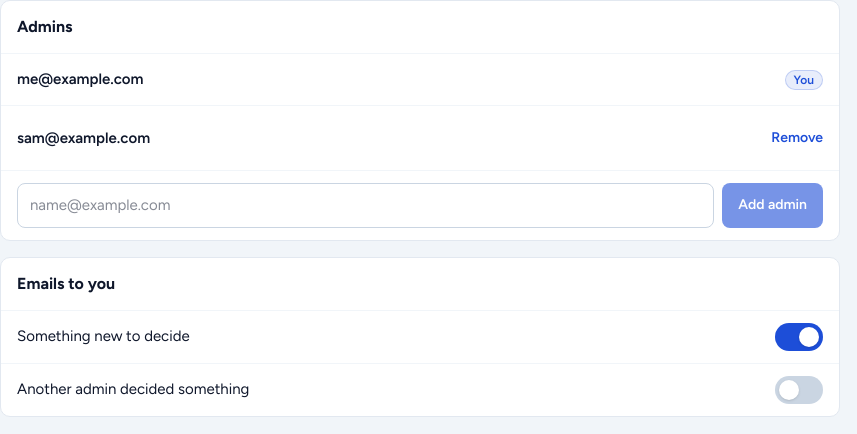
TeamManager › removes someone after asking, with DELETE, and Leave it keeps them
Click the button with aria-label "Remove sam@example.com" at (797, 138), box [771,118,823,158]
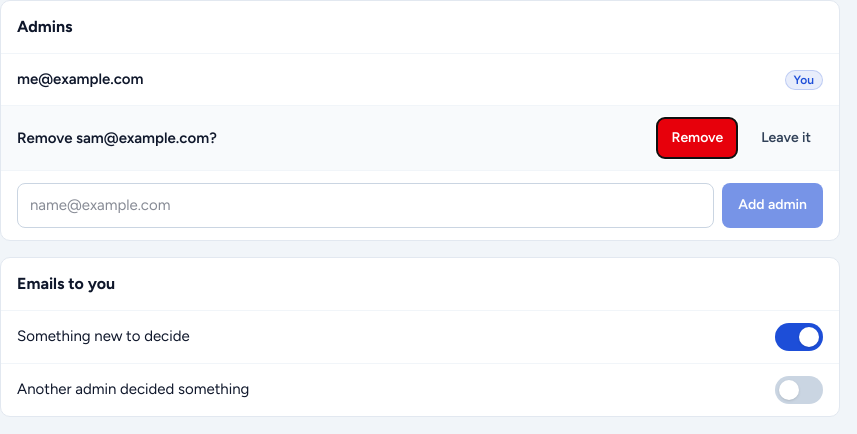
Expected: the text "Remove sam@example.com?" is shown, [17,129,217,147]
Click the button "Leave it" at (786, 138), box [749,118,823,158]
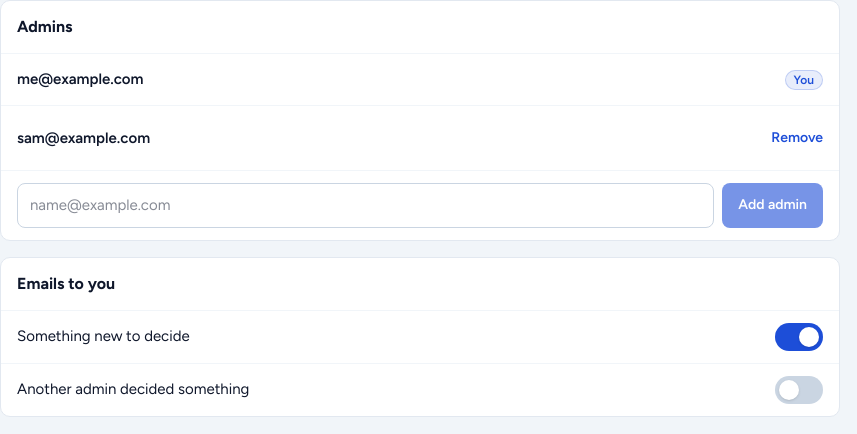
Expected: the text "sam@example.com" is shown, [17,129,150,147]
Click the button with aria-label "Remove sam@example.com" at (797, 138), box [771,118,823,158]
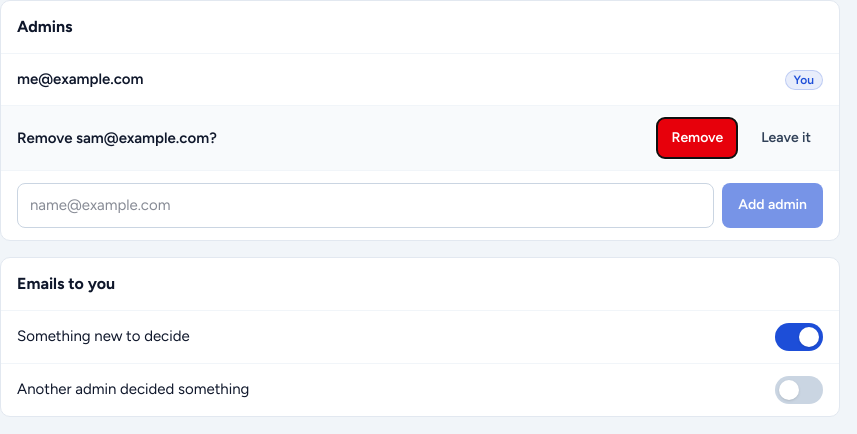
Click the button "Remove" at (697, 138), box [658,118,737,158]
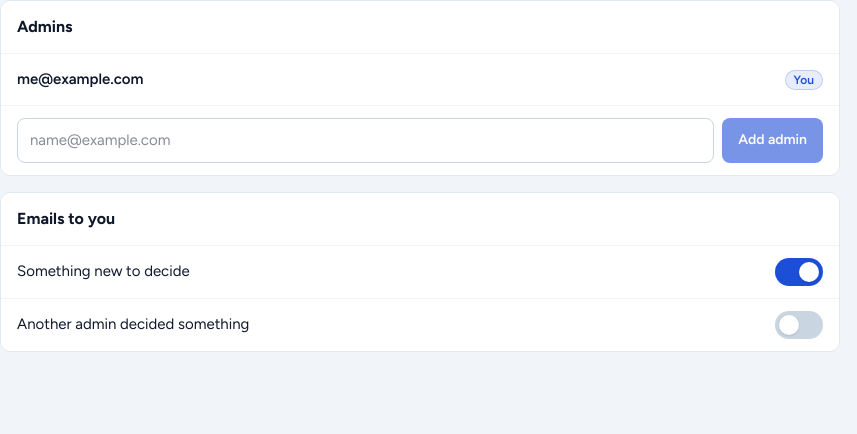
Expected: the text "sam@example.com" is gone
